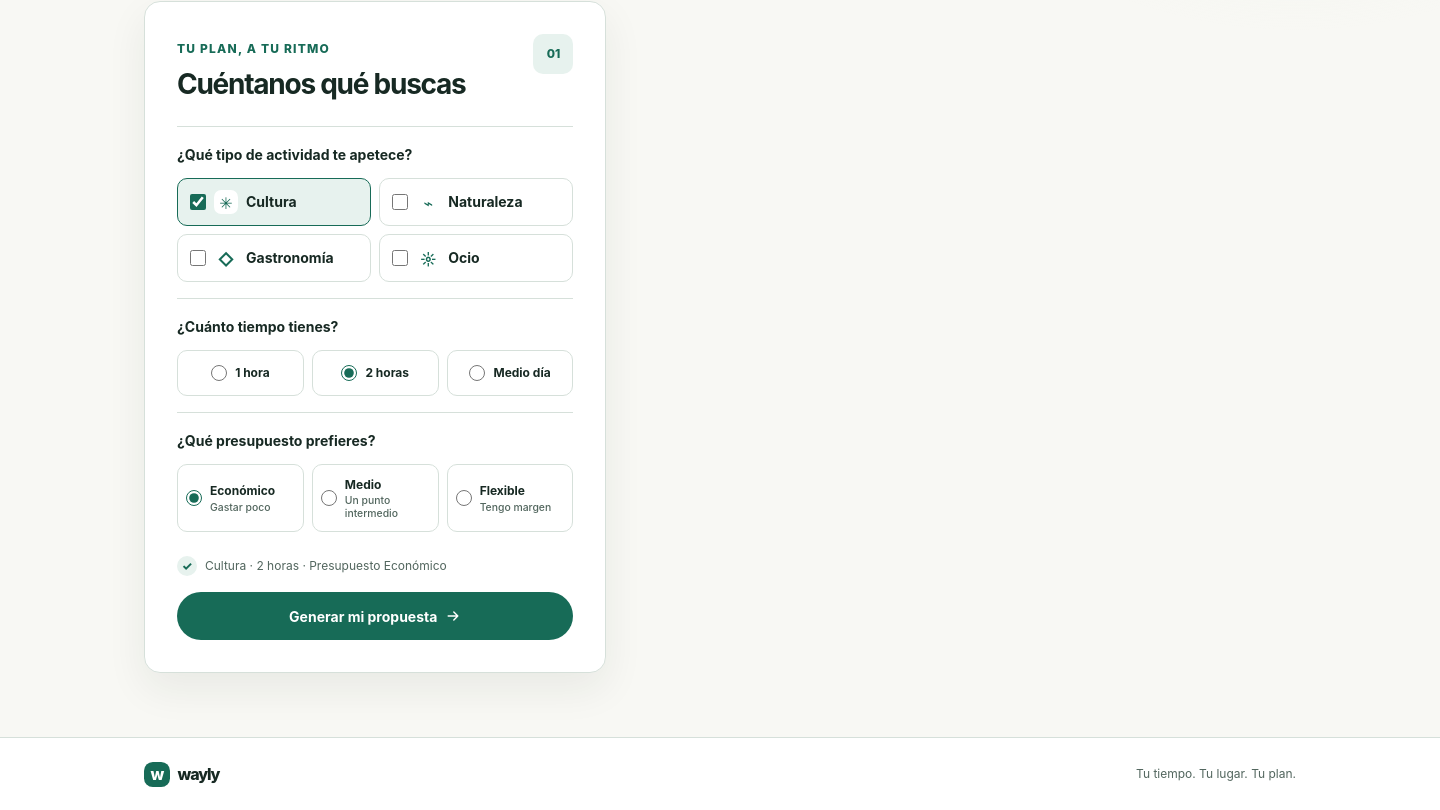
Test case: DiscoverPageComponent › shows no compatible results separately from an empty catalog
(page scrolled)
Click the button "Generar mi propuesta" at (375, 616), box [177, 592, 574, 640]
(page scrolled)
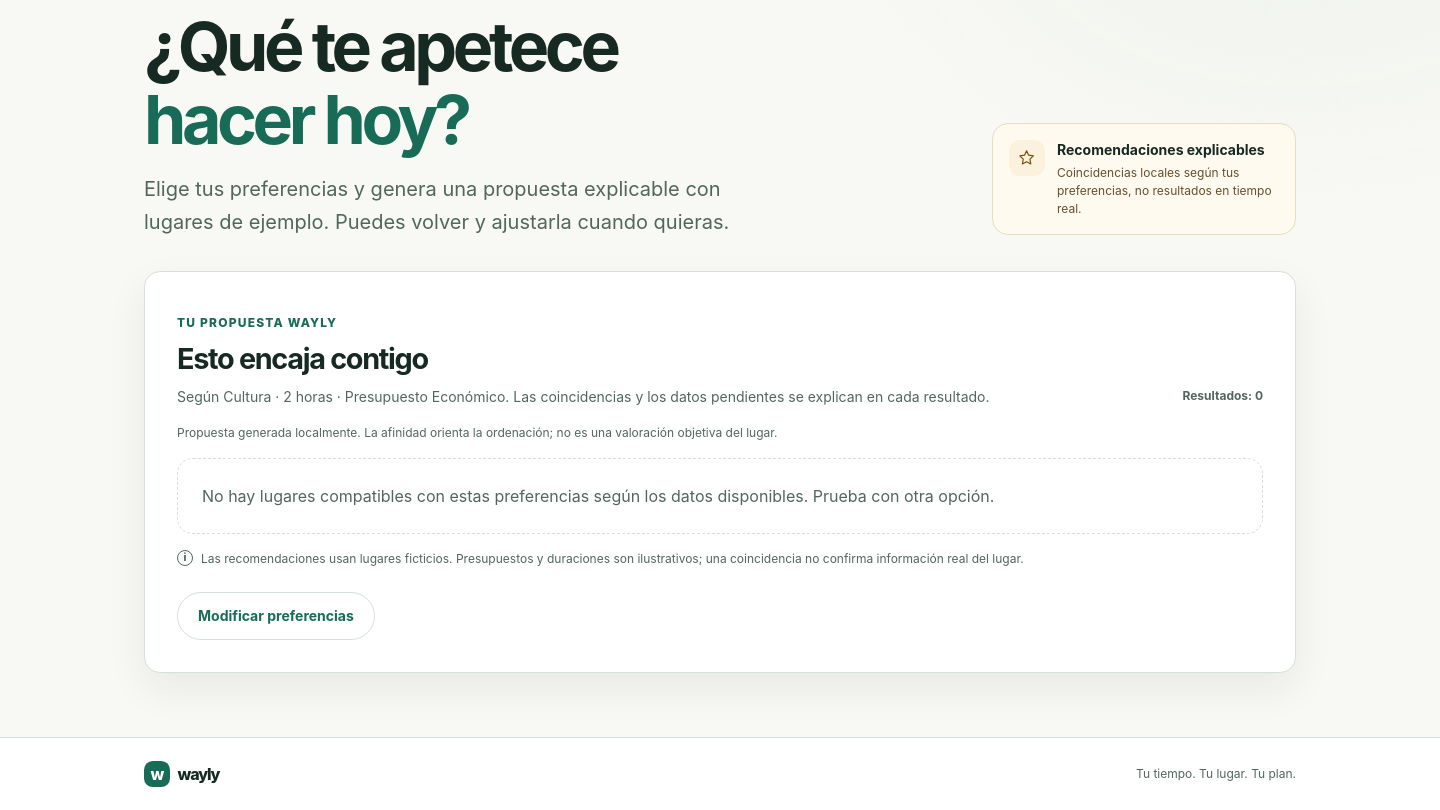
Expected: the text with class "empty-message" shows "No hay lugares compatibles", [202, 486, 994, 506]
